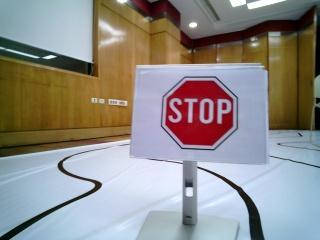stop: (137, 71, 253, 156)
